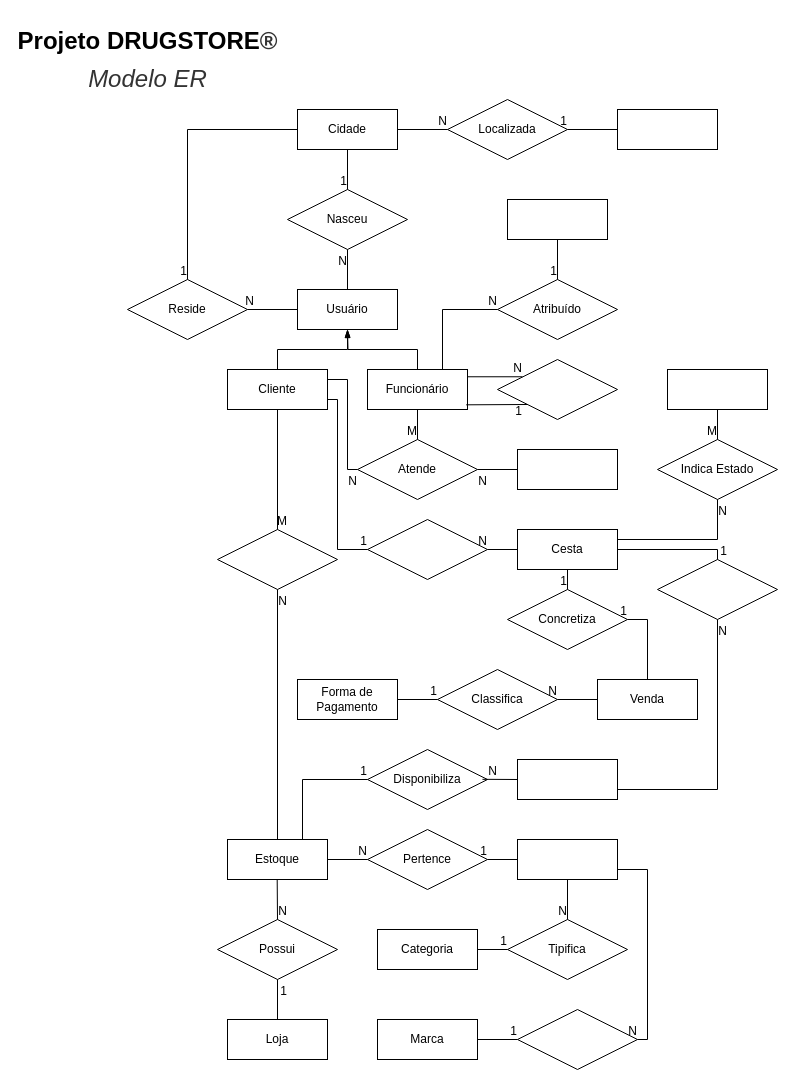
This 795x1087 diagram has some shape labels left out. Here are the shapes that lost their labels. From the top down, the centre of each, then its label:
At point 667,129: "Estado".
At point 557,219: "Perfil".
At point 557,389: "Cadastra".
At point 717,389: "Status".
At point 567,469: "Solicitação".
At point 277,559: "Compra".
At point 427,549: "Cria".
At point 717,589: "Agrupa".
At point 567,779: "Itens".
At point 567,859: "Produto".
At point 577,1039: "Produz".
